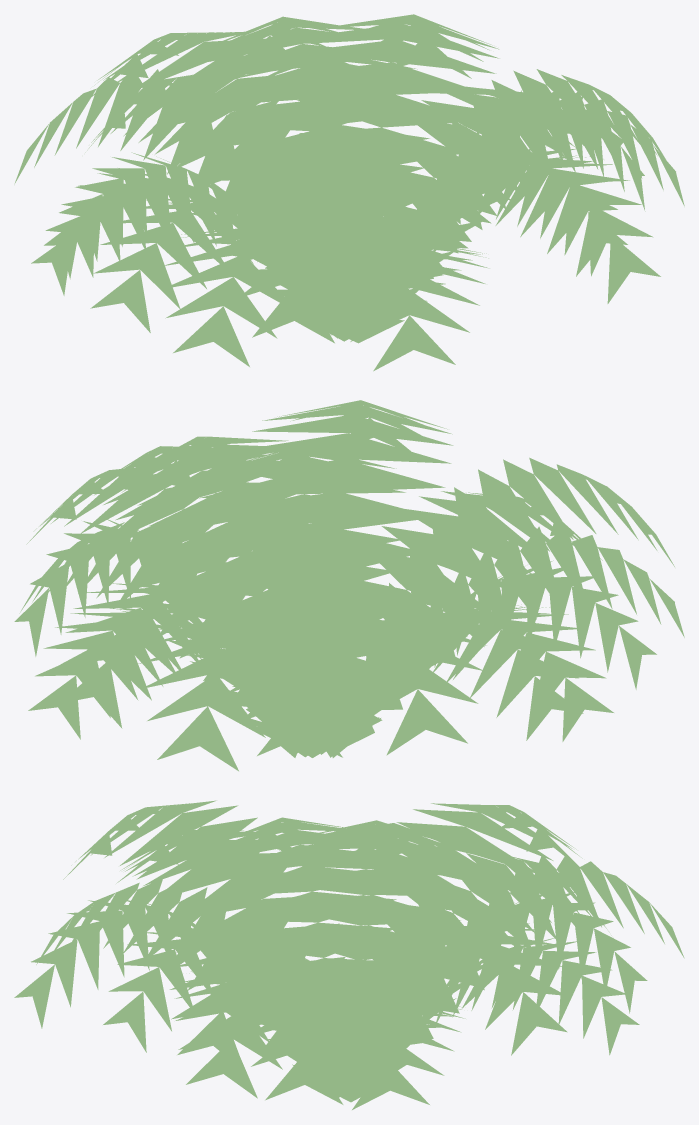
File: Blender_Fern_2.glb
3 views of the same model, one above another, from view 1: azimuth 30°, elevation 25°; view 2: azimuth 150°, elevation 25°; view 3: azimuth 270°, elevation 25° (orthographic). The views are drawn at different scales.
Parts seen in each view (by area): view 1: Blender_Fern_2; view 2: Blender_Fern_2; view 3: Blender_Fern_2.
Boxes of the visible parts, x1,y1,x2,y2 form: Blender_Fern_2: (14, 14, 684, 371); Blender_Fern_2: (14, 400, 684, 771); Blender_Fern_2: (14, 800, 684, 1109).
Size of the model in its own units: 1.23 by 0.4864 by 1.32.
